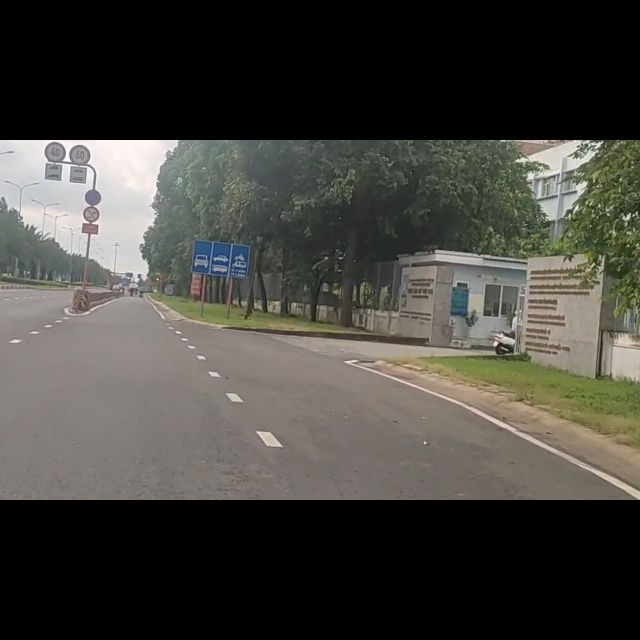bien_cam: (191, 174, 250, 250), (44, 2, 65, 40), (69, 7, 91, 43)
